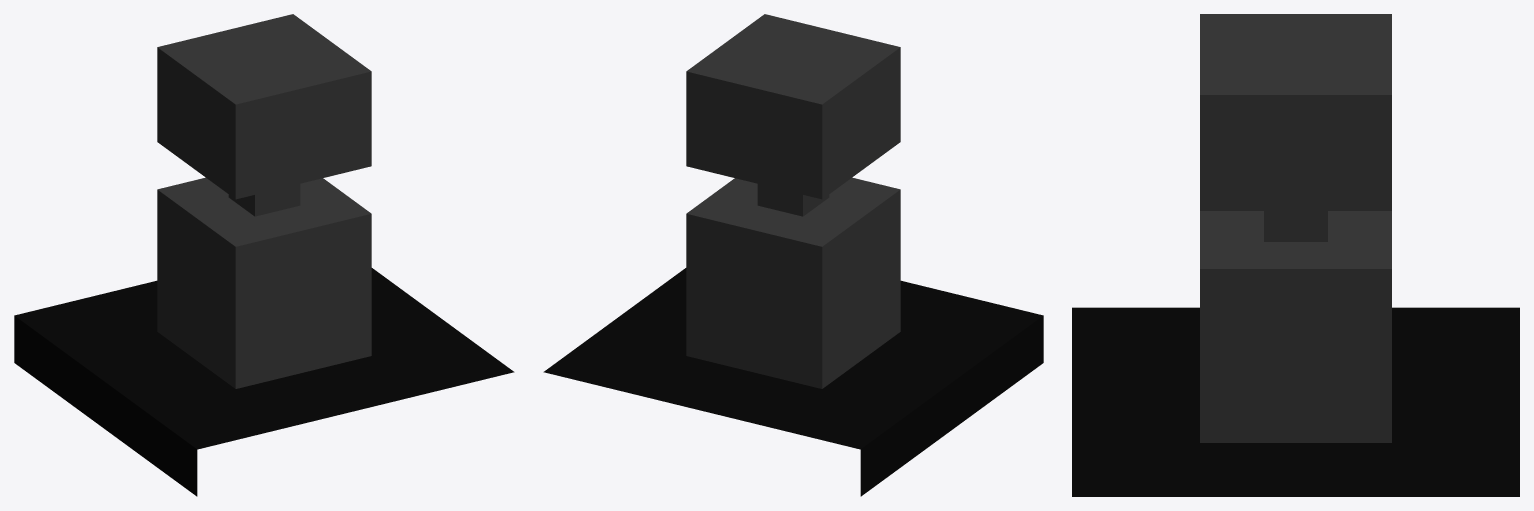
The model's file is pawn-w.glb.
3 renders of one model, left to right at view 1: azimuth 30°, elevation 25°; view 2: azimuth 150°, elevation 25°; view 3: azimuth 270°, elevation 25°, orthographic. The views are drawn at different scales.
Parts seen in each view (by area): view 1: root; view 2: root; view 3: root.
Part boxes in pixels (x1,y1,x2,y2): root: [14, 14, 514, 496]; root: [543, 14, 1043, 496]; root: [1072, 14, 1519, 496].
Size of the model in its own units: 1 by 1 by 1.
Materials: 1 (1 with a texture image).
